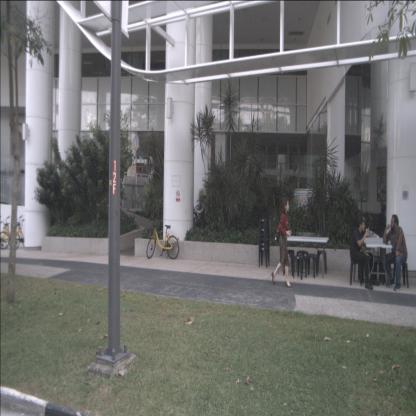human-pedestrian-adult: (271, 198, 292, 288), (383, 215, 407, 291), (350, 216, 373, 290)
vehicle-bicycle: (146, 214, 180, 259), (0, 214, 25, 250), (0, 216, 21, 249)
